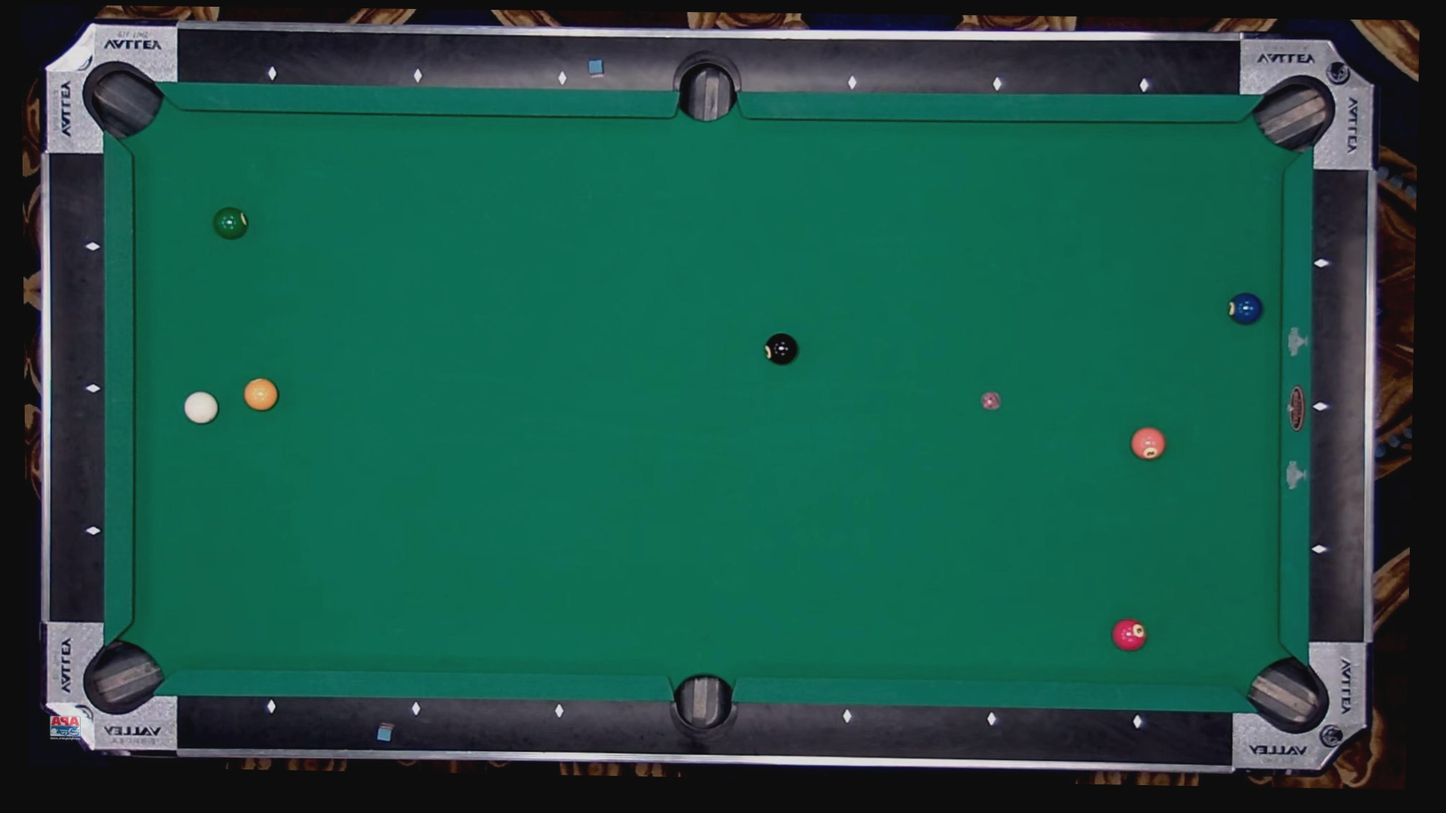Black: (763, 333, 798, 366)
Cue: (183, 390, 219, 425)
Solid: (1316, 258, 1327, 269), (411, 704, 422, 715), (842, 711, 853, 722), (987, 713, 998, 724), (1133, 715, 1144, 726), (1315, 544, 1325, 555), (1315, 402, 1326, 412), (1139, 80, 1149, 91), (847, 78, 858, 88), (557, 73, 567, 84), (412, 71, 423, 81), (267, 69, 278, 79), (88, 242, 99, 252), (88, 384, 99, 394), (88, 526, 98, 537), (266, 702, 277, 712), (555, 706, 565, 717), (992, 79, 1002, 89)
Striped: (212, 206, 250, 241), (244, 377, 279, 412), (1228, 292, 1264, 326), (1130, 427, 1166, 460), (1112, 618, 1147, 651)
